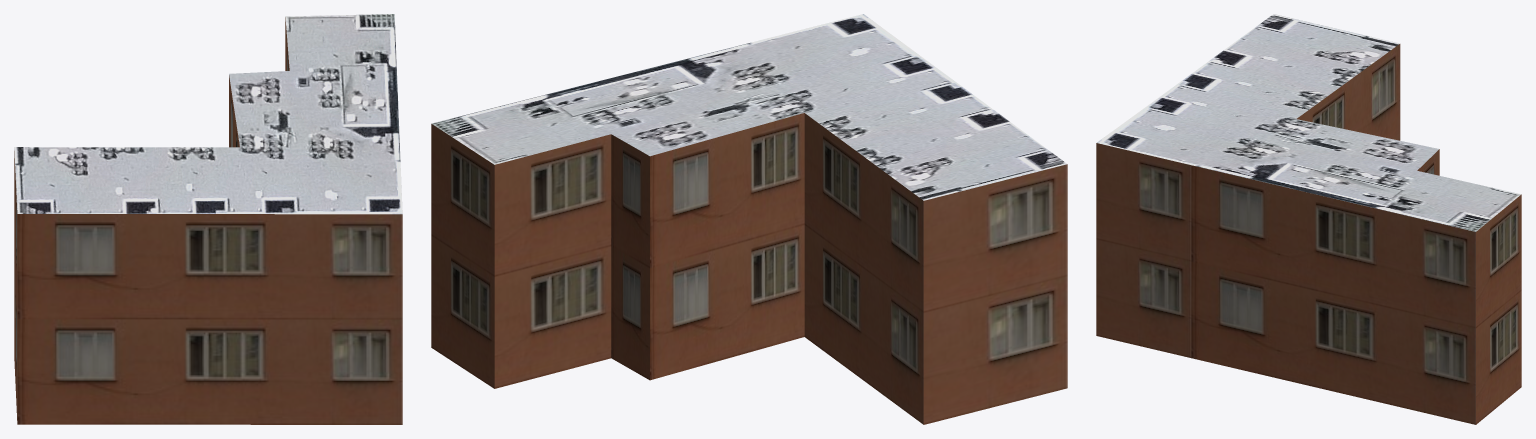
File: ResTex__3590.fbx
The picture shows the model from 3 angles, left to right: view 1: azimuth 30°, elevation 25°; view 2: azimuth 150°, elevation 25°; view 3: azimuth 270°, elevation 25°; orthographic projection. The views are drawn at different scales.
Visible parts, largest first — view 1: CityEngineMaterial_20_m, CityEngineMaterial_8_m; view 2: CityEngineMaterial_20_m, CityEngineMaterial_8_m; view 3: CityEngineMaterial_20_m, CityEngineMaterial_8_m.
Boxes of the visible parts, bbox=[...] form: CityEngineMaterial_20_m: bbox=[14, 17, 402, 424]; CityEngineMaterial_8_m: bbox=[14, 14, 402, 214]; CityEngineMaterial_20_m: bbox=[431, 113, 1067, 424]; CityEngineMaterial_8_m: bbox=[431, 14, 1067, 200]; CityEngineMaterial_20_m: bbox=[1096, 44, 1521, 424]; CityEngineMaterial_8_m: bbox=[1097, 14, 1520, 231].
Size of the model in its own units: 14.54 by 6 by 11.98.
2 materials, 2 textured.
